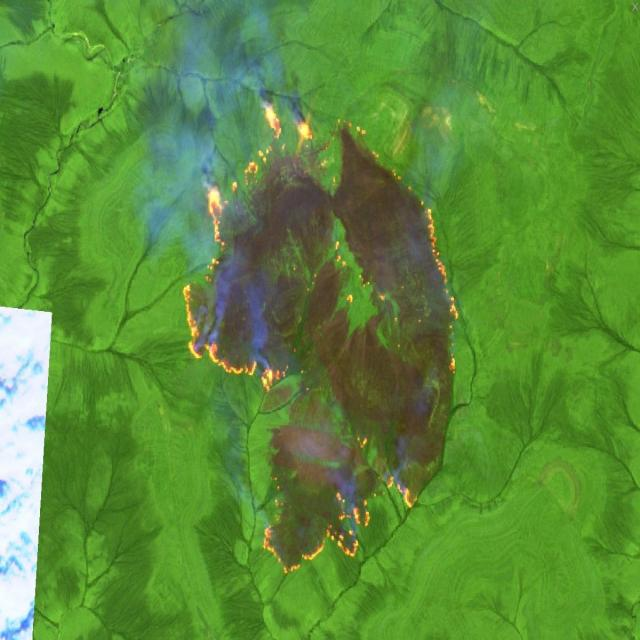fire: (179, 96, 463, 580)
